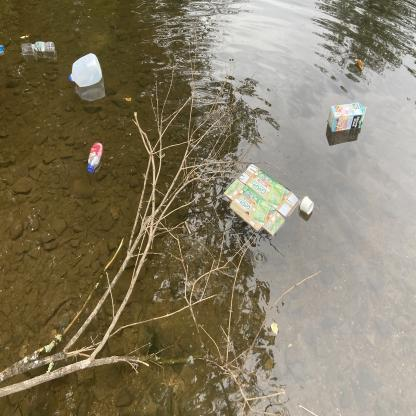trash: (221, 155, 302, 243), (324, 98, 370, 139), (65, 49, 106, 90), (85, 138, 106, 178), (28, 36, 58, 60), (296, 192, 318, 218), (0, 42, 8, 56)
